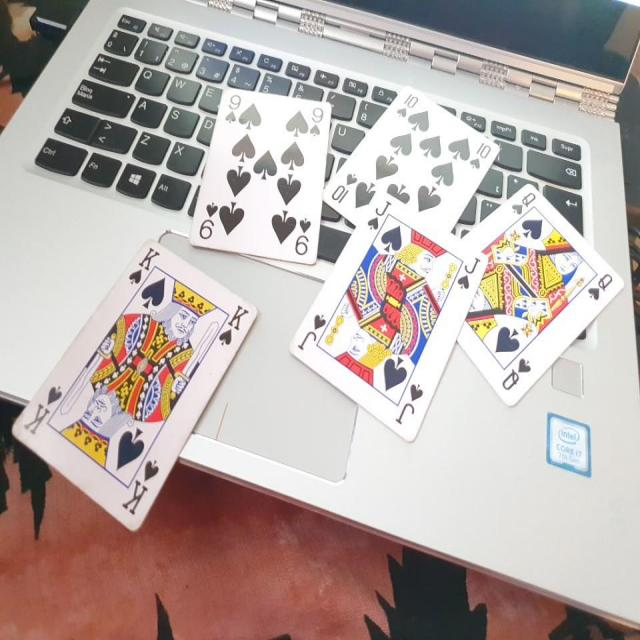10 Spades: (320, 74, 497, 284)
9 Spades: (191, 80, 335, 271)
J Spades: (291, 194, 491, 445)
K Spades: (5, 239, 255, 540)
Q Spades: (438, 179, 628, 416)
